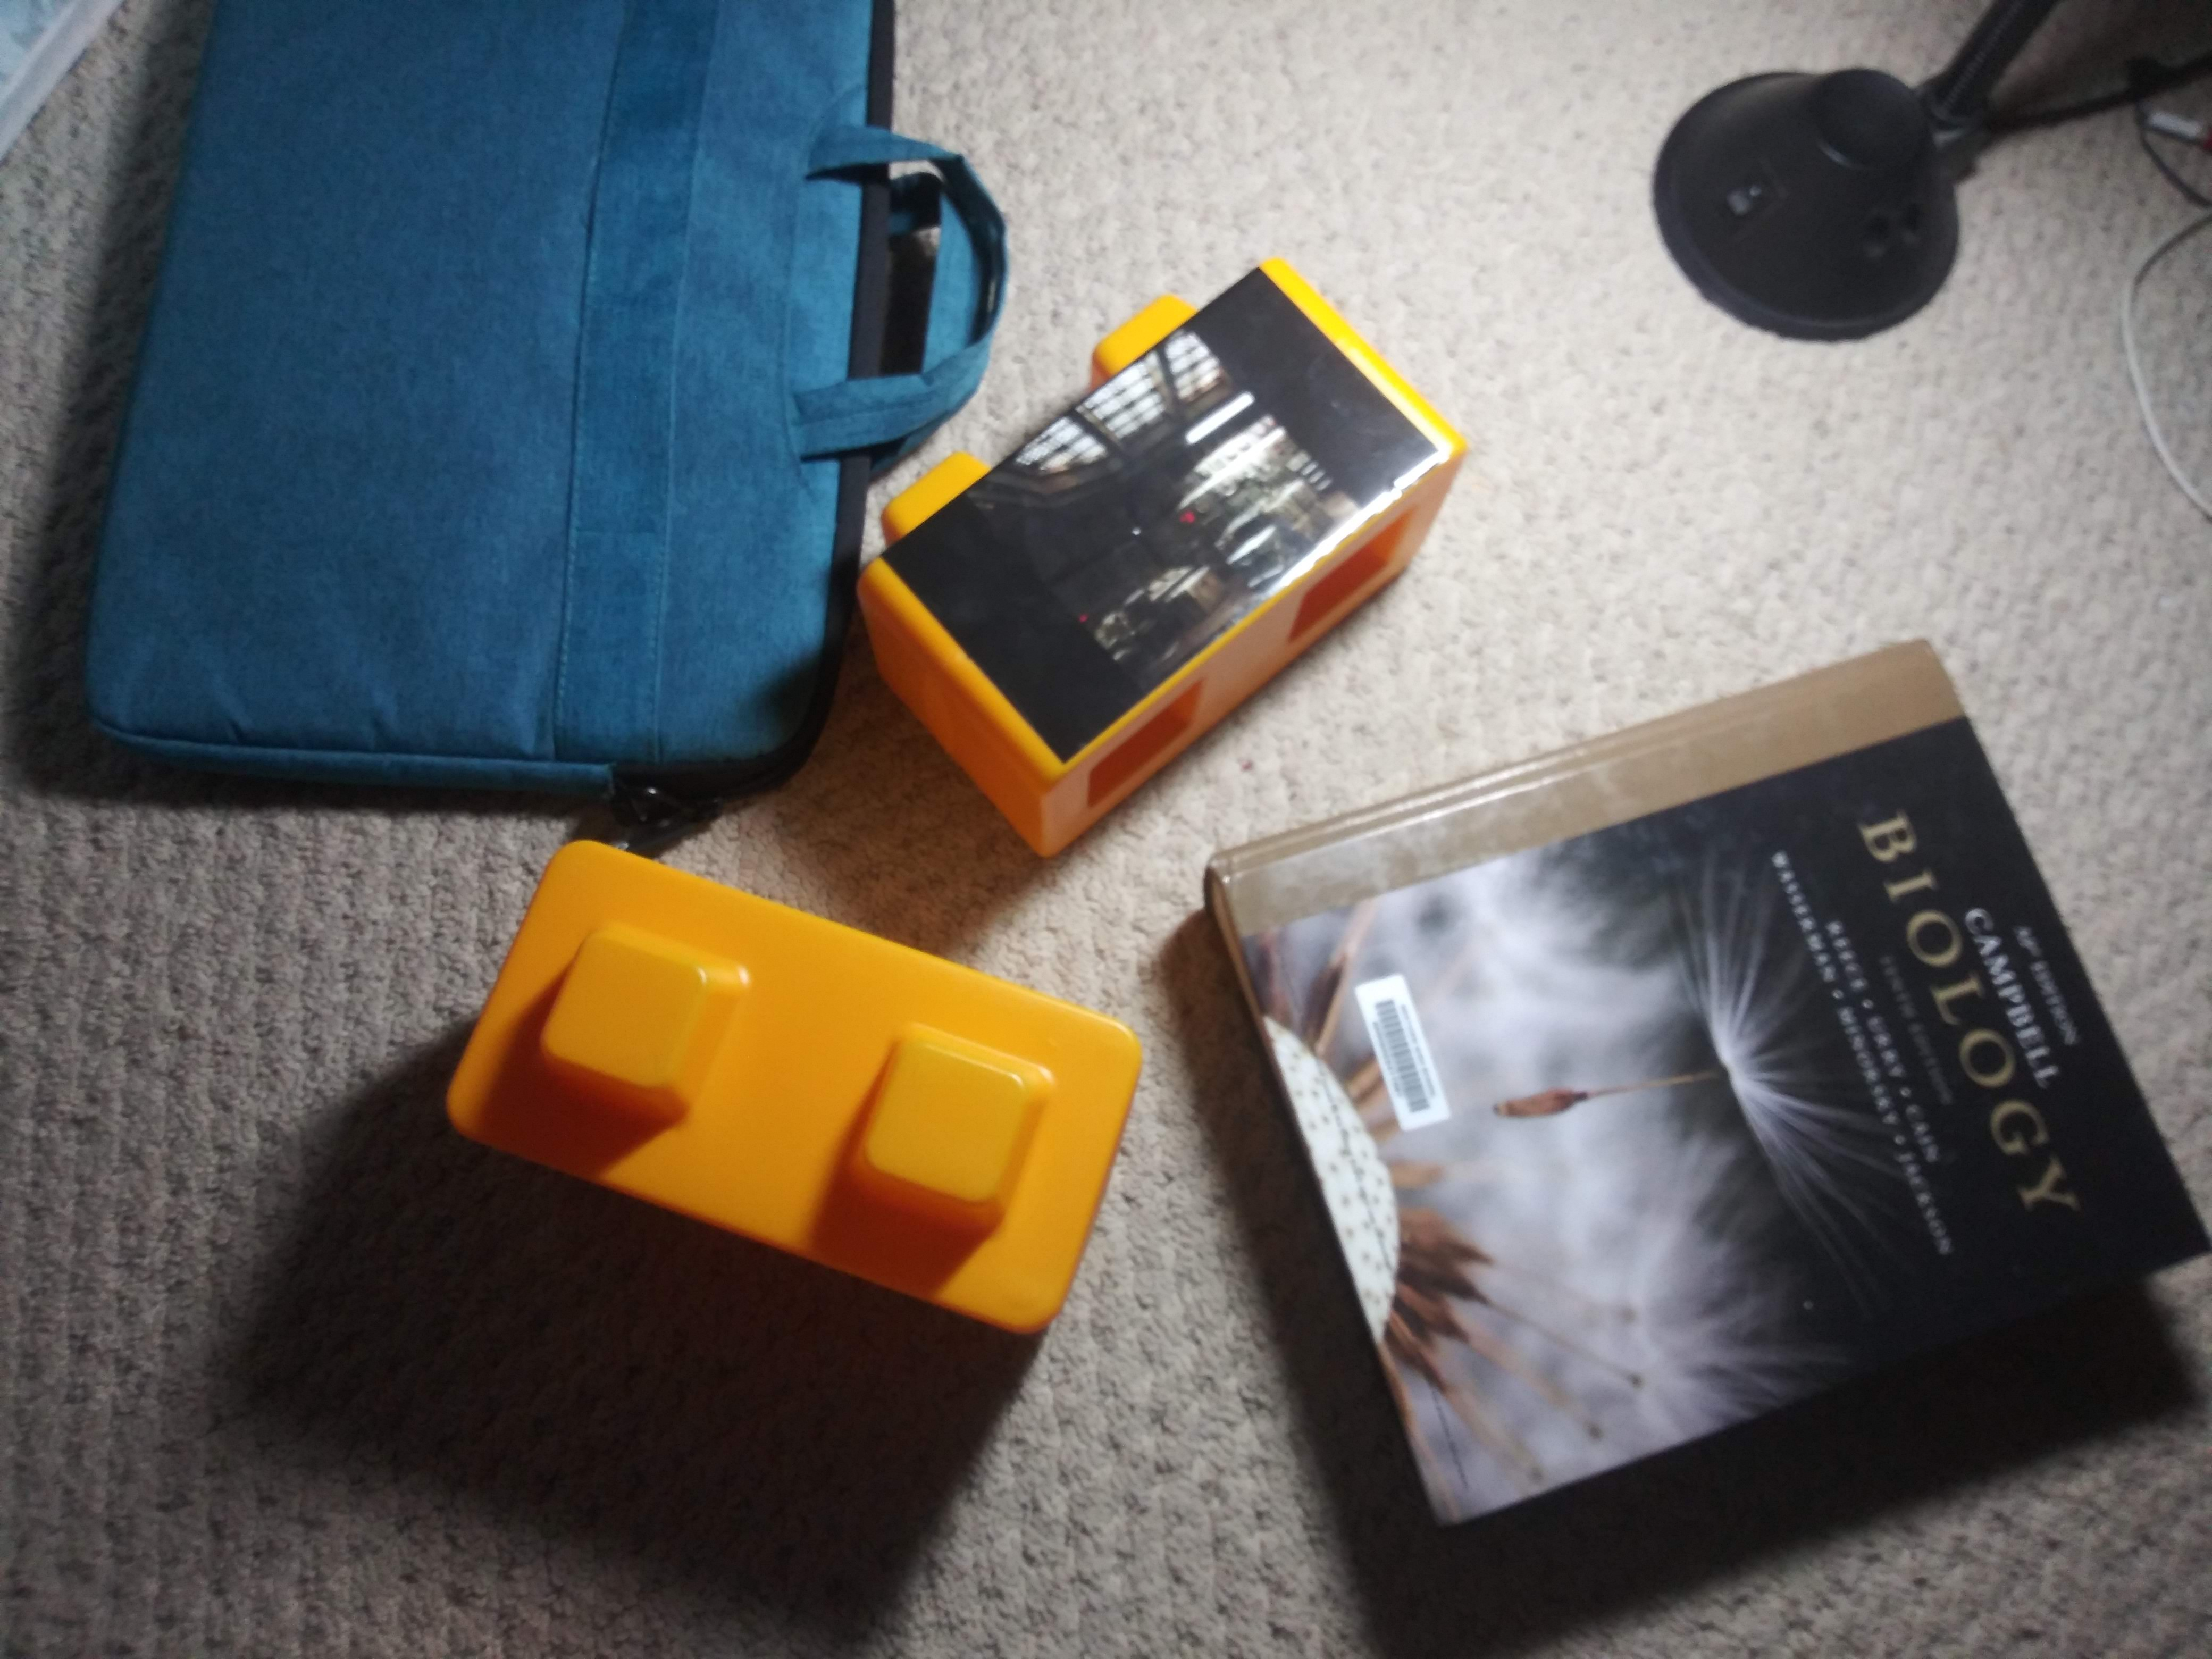skystone: (902, 361, 1413, 666)
stone: (475, 861, 1092, 1309)
